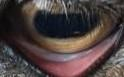eye_membrane: (11, 27, 122, 77)
